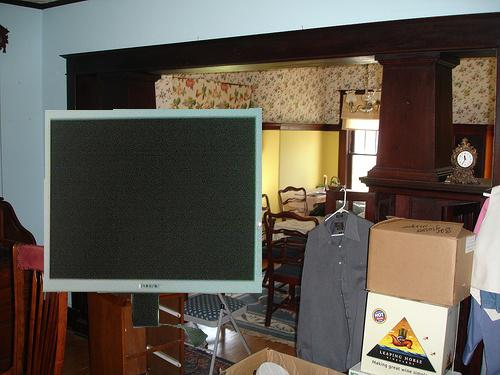tampered: (43, 109, 262, 347)
